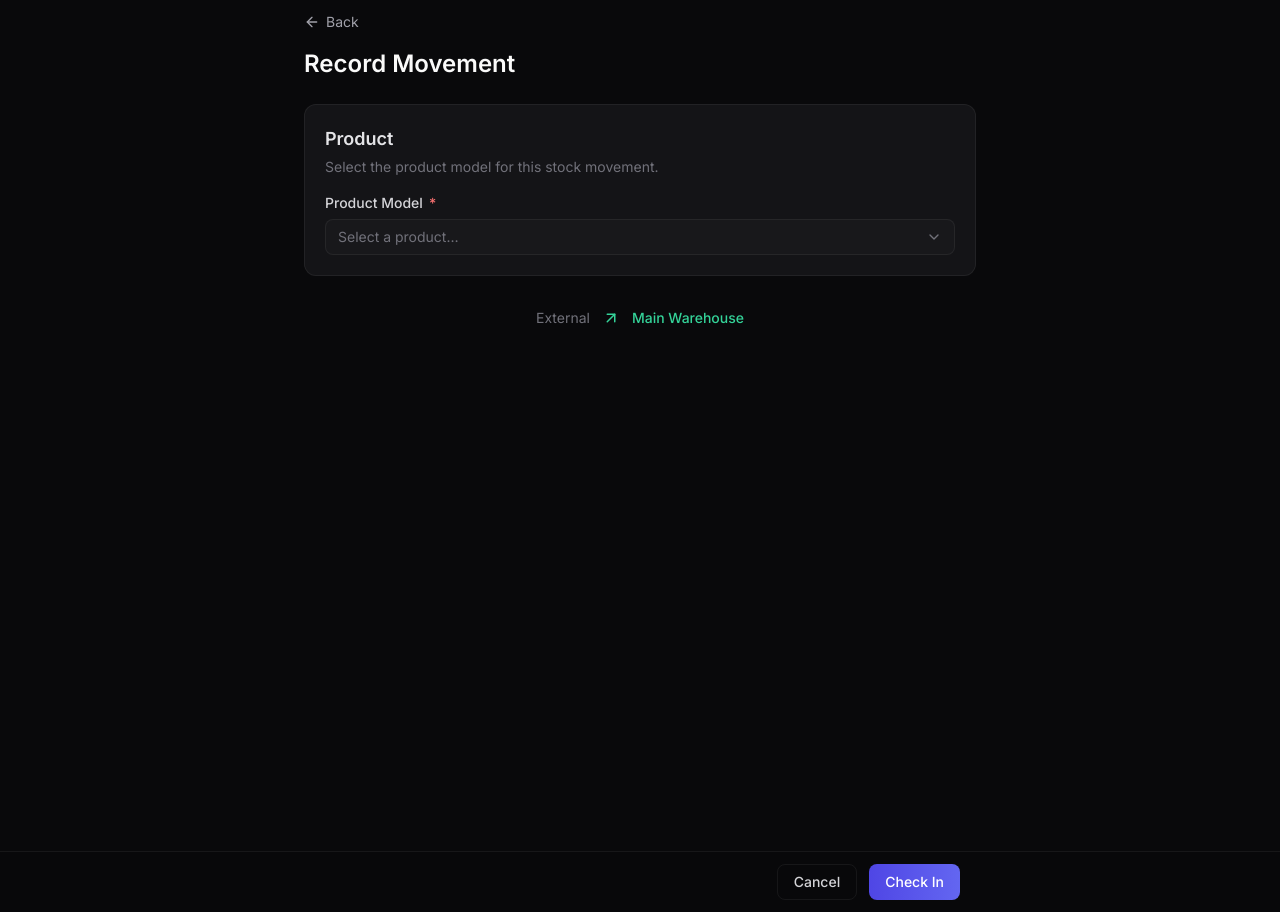
Scenario: MovementCreate — per-profile gating (PRESET-LOGIC-07) › DIMENSIONAL: behaves as BULK in movement form (quantity, no batch)
Click the dropdown: (398, 236) [325,219,955,255]
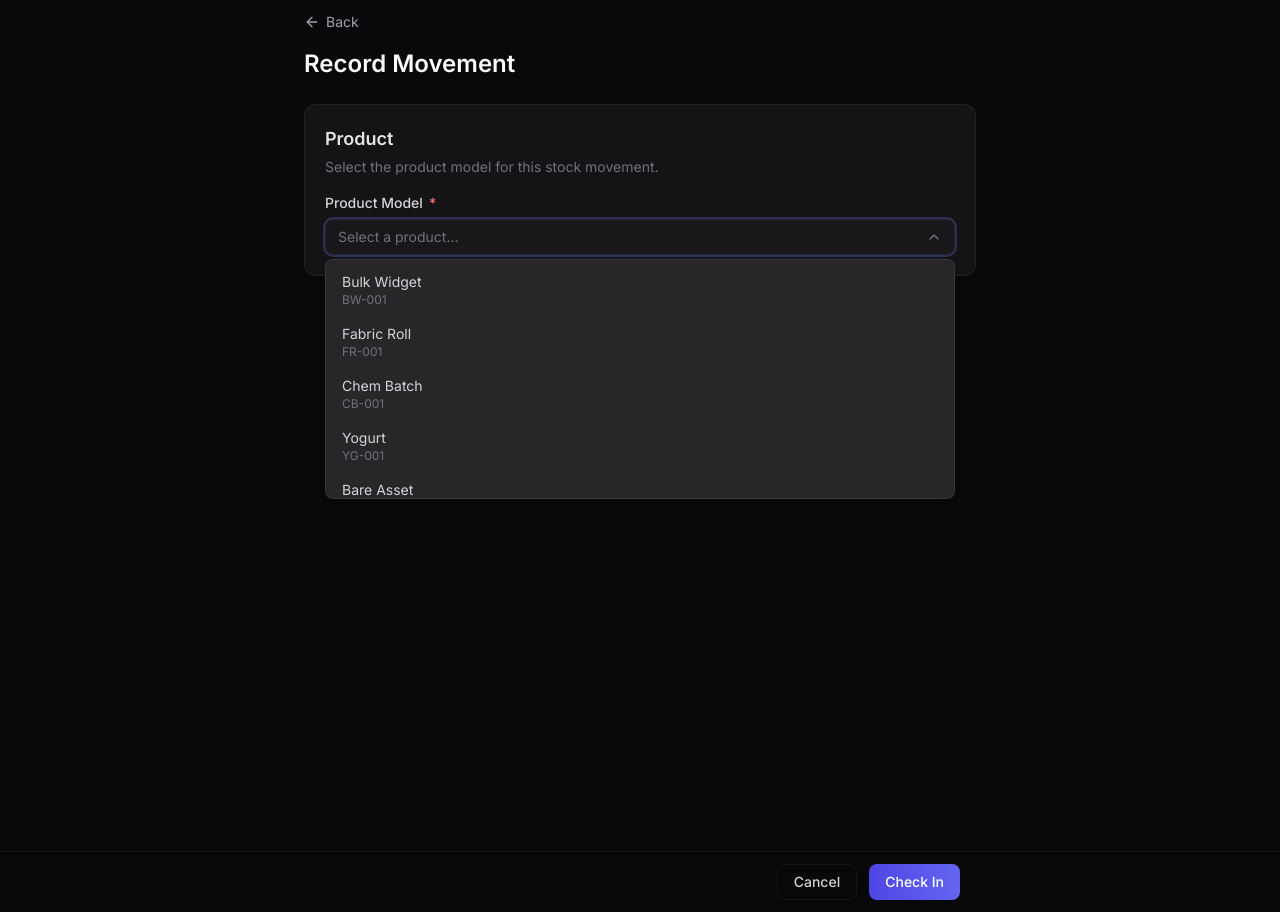
Click the text "Fabric Roll": (377, 334) [342,324,411,344]
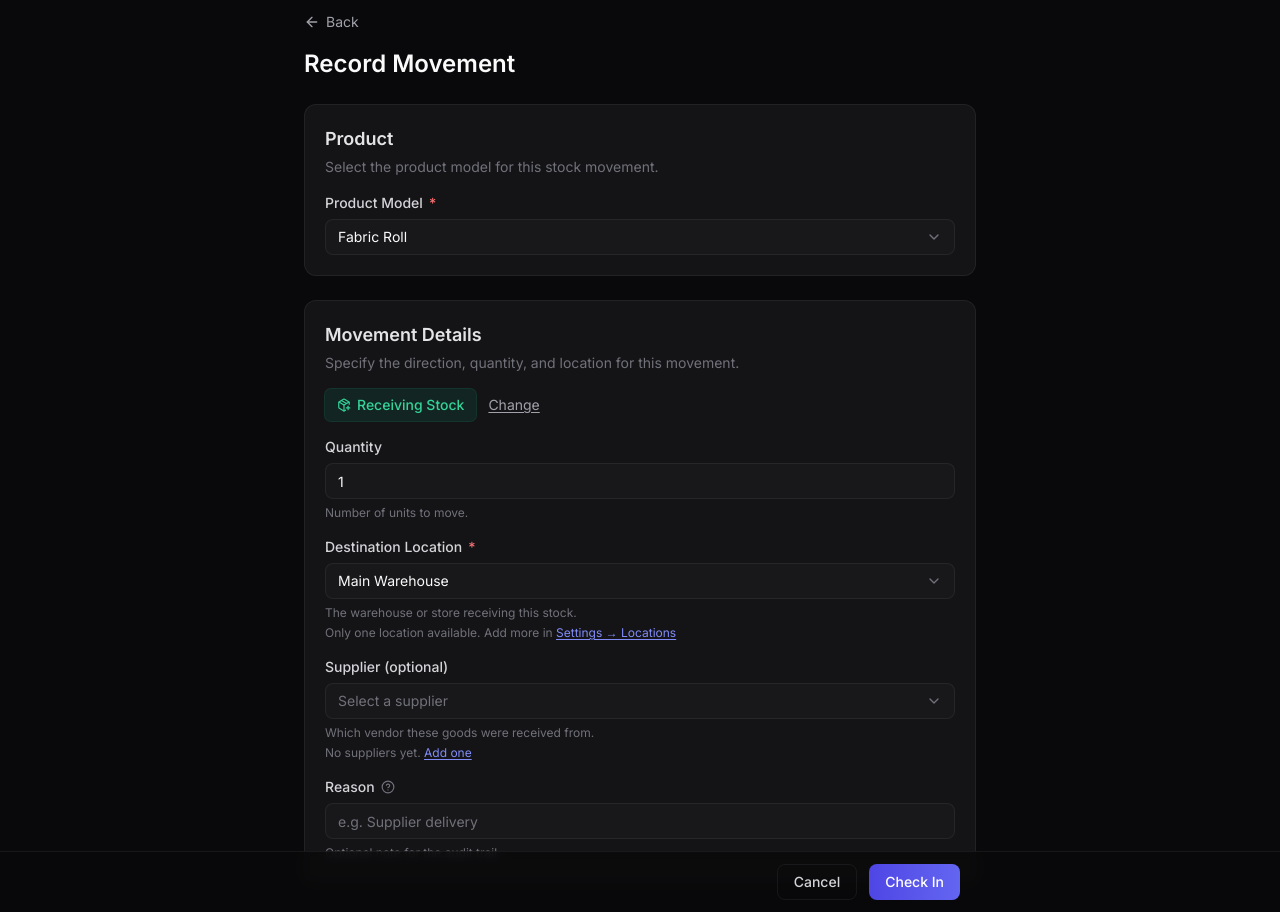
Now the number field labelled "Quantity" is shown, box [325,463,955,499]
